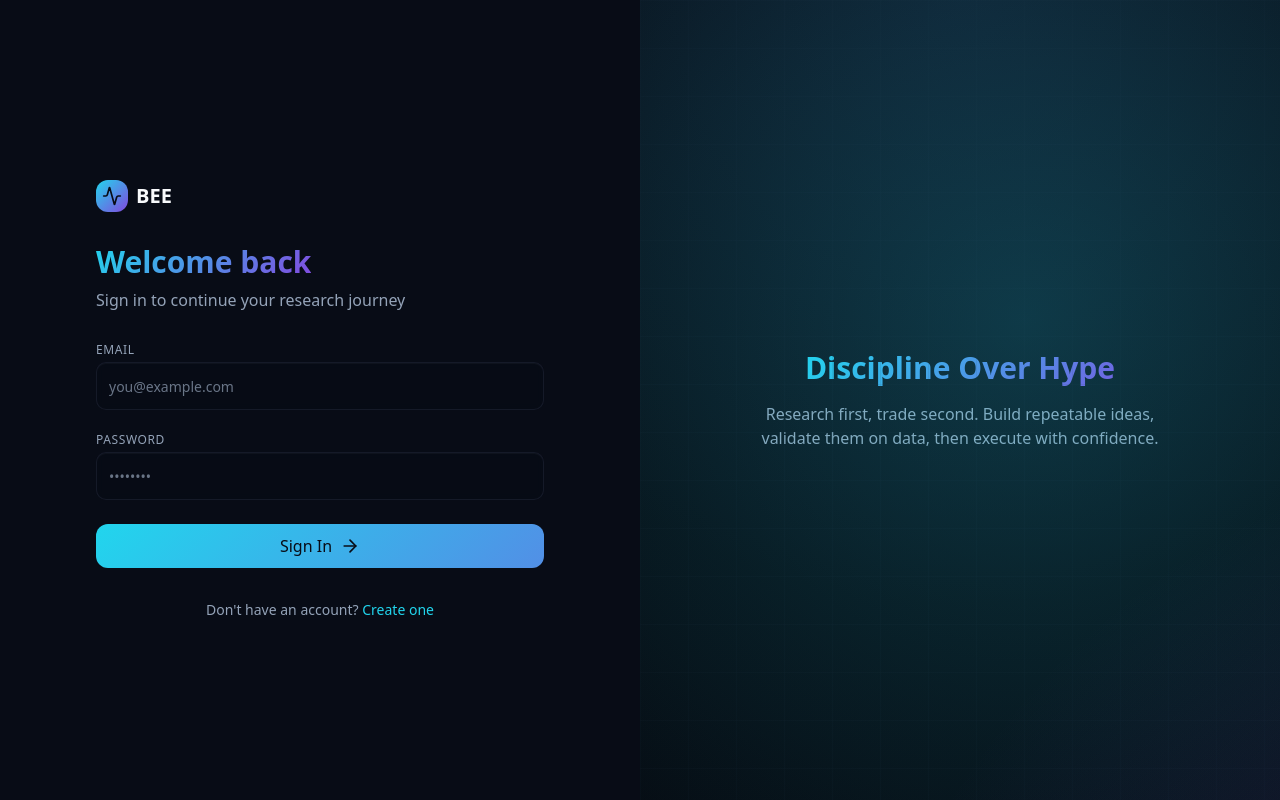
Scenario: LoginView › shows validation errors and blocks submit when invalid
This screenshot has width=1280, height=800.
Click the button "Sign In".
click(320, 546)  # box top-left (96, 524), bottom-right (544, 568)
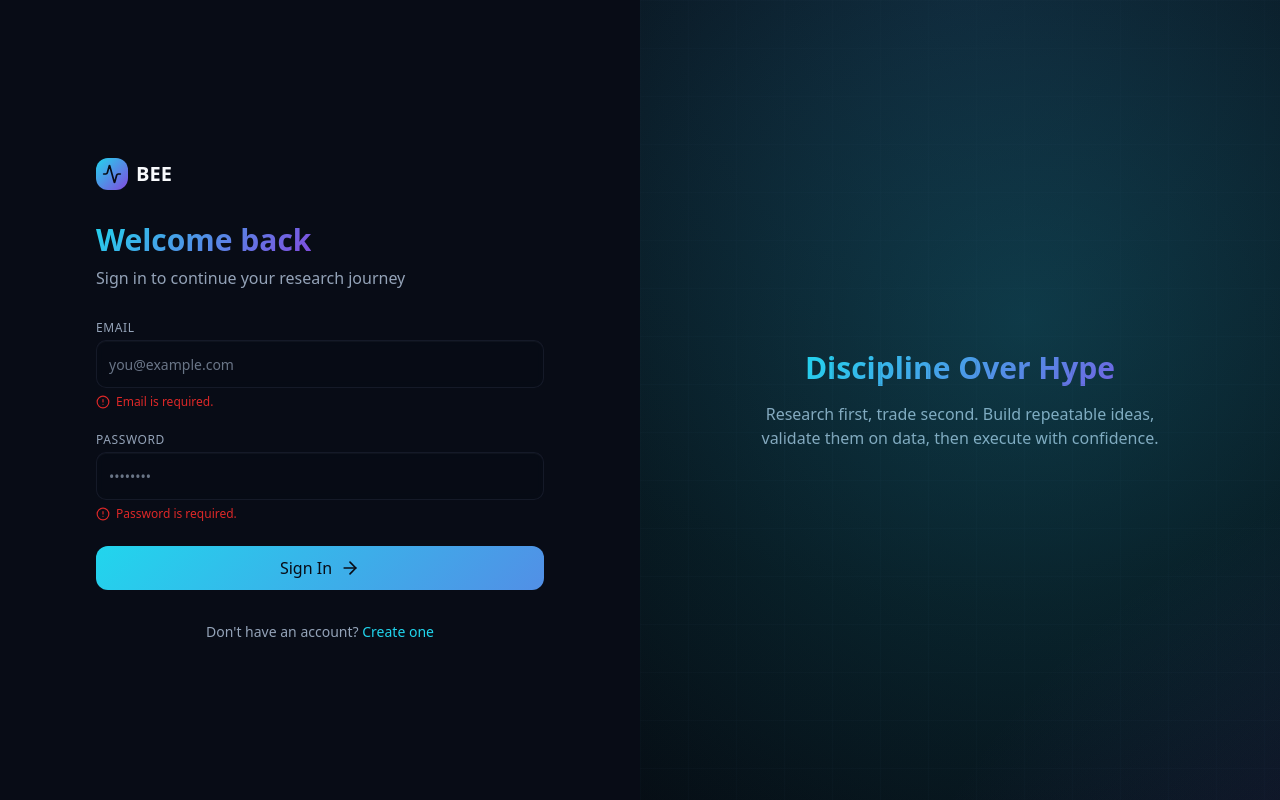
Expected: the text "Email is required." is shown, top-left (116, 394), bottom-right (213, 410)
Expected: the text "Password is required." is shown, top-left (116, 506), bottom-right (237, 522)
